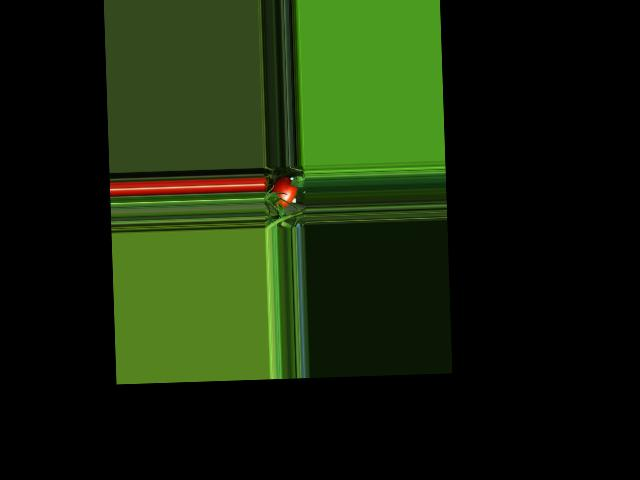tomato: (270, 176, 297, 207)
